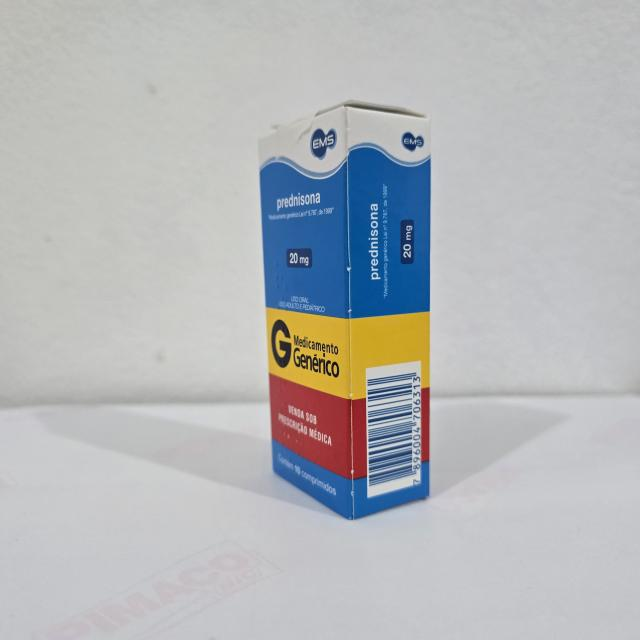prednisona: (250, 93, 437, 526)
